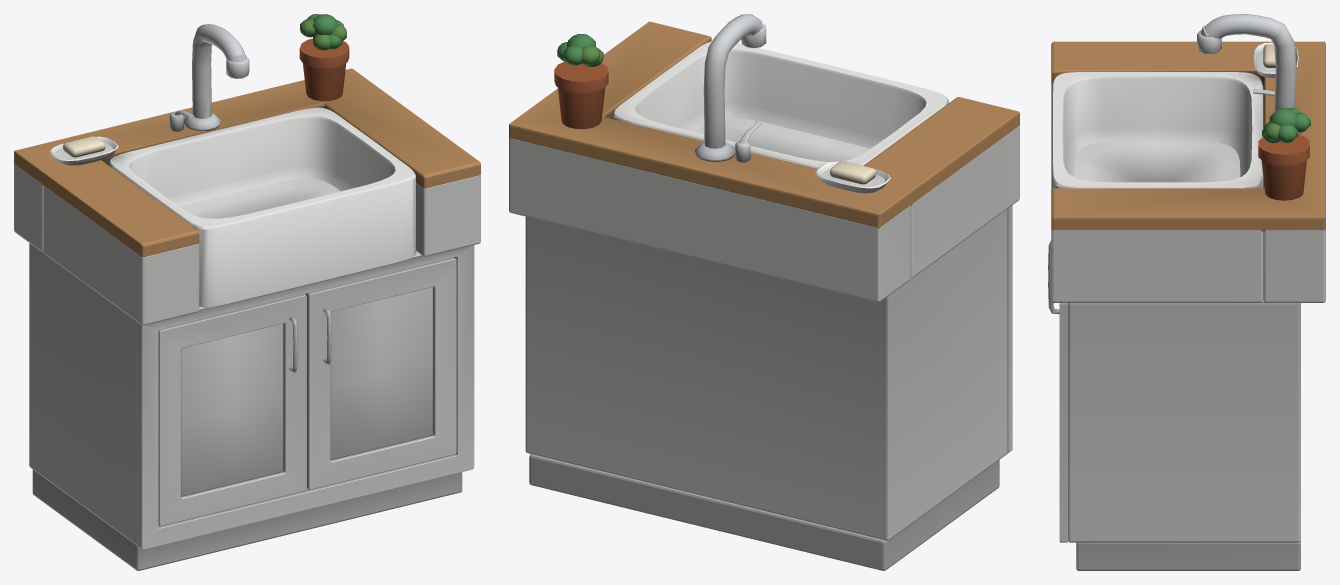
The model's file is farmhouseSink.glb.
3 views of the same model, side by side, from view 1: azimuth 30°, elevation 25°; view 2: azimuth 150°, elevation 25°; view 3: azimuth 270°, elevation 25° (orthographic). The views are drawn at different scales.
Visible parts, largest first — view 1: body; view 2: body; view 3: body.
Part boxes in pixels (x1,y1,x2,y2): body: (14, 14, 480, 570); body: (509, 14, 1019, 570); body: (1048, 14, 1325, 570).
Bounding box in the file's own units: 1 × 1.25 × 0.6675.
